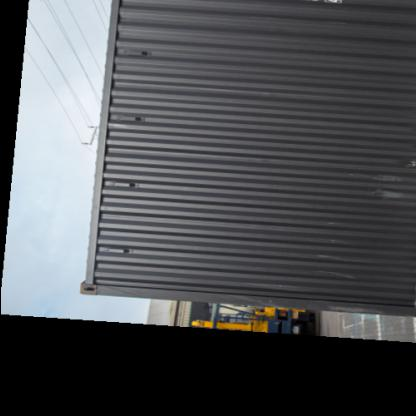Damage: (361, 152, 415, 209)
